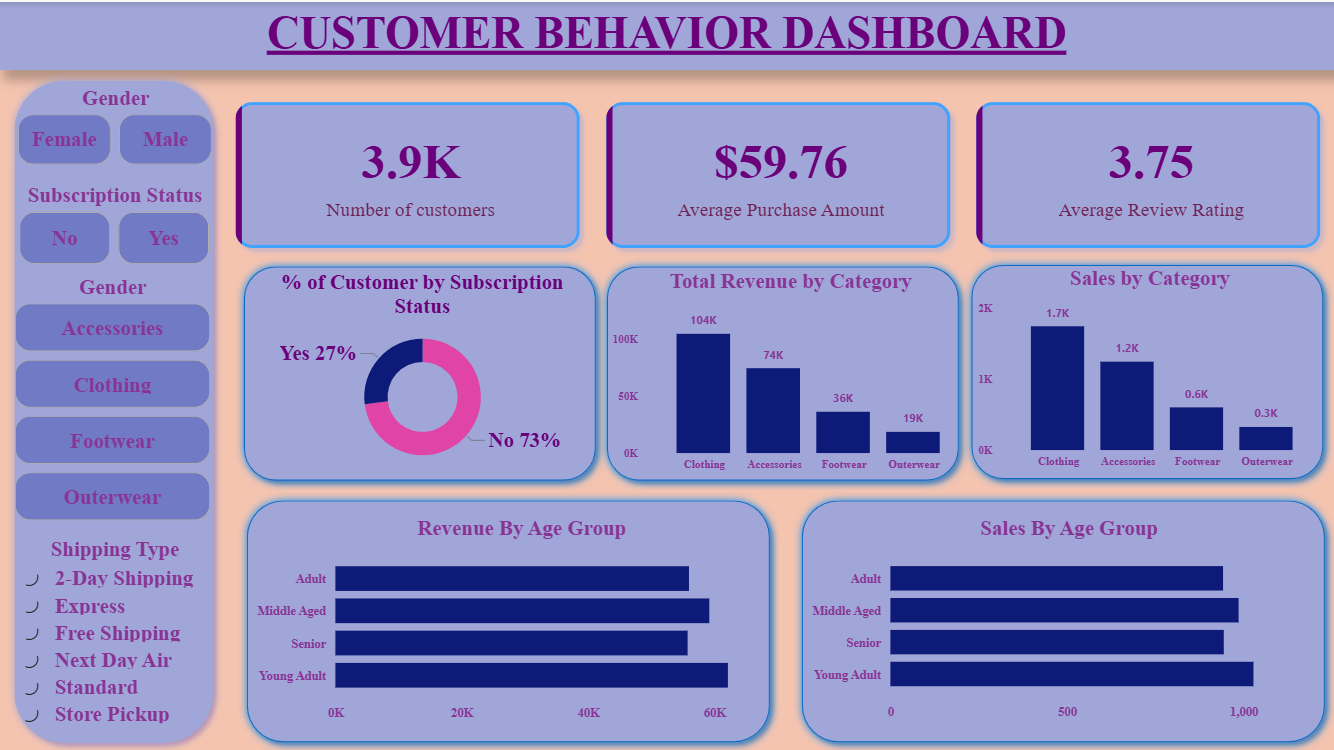

This screenshot's page, from the dashboard's own definition file:
{"tool":"powerbi","page":{"name":"Page 1","canvas":[1280,720],"ordinal":0},"visuals":[{"type":"cardVisual","fields":{"Data":["public Customer.Number of customers","public Customer.Average Purchase Amount","public Customer.Average Review Rating"]},"box":[214.9,83,1066,166],"z":0},{"type":"textbox","box":[0,0,1280,65],"z":1000},{"type":"shape","box":[225.5,244.7,355.3,223.4],"z":2000},{"type":"donutChart","title":"% of Customer by Subscription Status","fields":{"Category":["public Customer.subscription_status"],"Y":["public Customer.Number of customers"]},"box":[238.3,257.4,334,197.9],"z":3000},{"type":"shape","box":[574.5,244.7,355.3,223.4],"z":4000},{"type":"clusteredColumnChart","title":"Total Revenue by Category","fields":{"Y":["Sum(public Customer.purchase_amount)"],"Category":["public Customer.category"]},"box":[583,255.3,353.2,202.1],"z":5000},{"type":"shape","box":[923.4,242.6,355.3,223.4],"z":6000},{"type":"clusteredColumnChart","title":"Sales by Category","fields":{"Category":["public Customer.category"],"Y":["CountNonNull(public Customer.customer_id)"]},"box":[934,253.2,340.4,202.1],"z":7000},{"type":"shape","box":[6.4,66,208.5,653.2],"z":8000},{"type":"advancedSlicerVisual","title":"Subscription Status","fields":{"Values":["public Customer.subscription_status"]},"box":[14.9,174.5,193.6,83],"z":8001},{"type":"advancedSlicerVisual","title":"Gender","fields":{"Values":["public Customer.gender"]},"box":[12.8,80.9,197.9,80.9],"z":8002},{"type":"advancedSlicerVisual","title":"Gender","fields":{"Values":["public Customer.category"]},"box":[10.6,261.7,197.9,242.6],"z":8003},{"type":"listSlicer","title":"Shipping Type","fields":{"Values":["public Customer.shipping_type"]},"box":[14.9,512.8,193.6,189.4],"z":8004},{"type":"shape","box":[760.1,469.4,519.4,249.8],"z":8006},{"type":"shape","box":[228.6,469.4,519.4,249.8],"z":8007},{"type":"clusteredBarChart","title":"Revenue By Age Group","fields":{"Category":["public Customer.age_group"],"Y":["Sum(public Customer.purchase_amount)"]},"box":[240.5,492.8,521.9,204.1],"z":8008},{"type":"clusteredBarChart","title":"Sales By Age Group","fields":{"Category":["public Customer.age_group"],"Y":["CountNonNull(public Customer.customer_id)"]},"box":[772.7,492.8,507.3,202.6],"z":8009}]}

Visuals, with their boxes in screenshot pixels (x1, y1, x2, y2), scaled from the page's 1280x720 canvas onto the 1334x750 screenshot:
cardVisual - public Customer.Number of customers x public Customer.Average Purchase Amount: (224,86,1333,259)
textbox: (0,0,1333,68)
shape: (235,255,605,488)
"% of Customer by Subscription Status" donutChart: (248,268,596,474)
shape: (599,255,969,488)
"Total Revenue by Category" clusteredColumnChart: (608,266,976,476)
shape: (962,253,1333,485)
"Sales by Category" clusteredColumnChart: (973,264,1328,474)
shape: (7,69,224,749)
"Subscription Status" advancedSlicerVisual: (16,182,217,268)
"Gender" advancedSlicerVisual: (13,84,220,169)
"Gender" advancedSlicerVisual: (11,273,217,525)
"Shipping Type" listSlicer: (16,534,217,731)
shape: (792,489,1333,749)
shape: (238,489,780,749)
"Revenue By Age Group" clusteredBarChart: (251,513,795,726)
"Sales By Age Group" clusteredBarChart: (805,513,1333,724)
